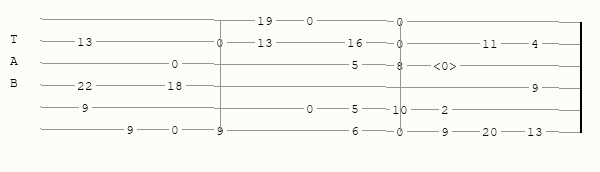0: (171, 58, 183, 70), (171, 124, 183, 136), (216, 36, 228, 48), (306, 14, 318, 26), (306, 102, 318, 114), (396, 124, 408, 136), (396, 36, 408, 48), (396, 14, 408, 26)
10: (392, 102, 412, 114)
11: (482, 36, 502, 48)
13: (77, 36, 97, 48), (257, 36, 277, 48), (527, 124, 547, 136)
16: (347, 36, 367, 48)
18: (167, 80, 187, 92)
19: (257, 14, 277, 26)
2: (441, 102, 453, 114)
20: (482, 124, 502, 136)
22: (77, 80, 97, 92)
4: (531, 36, 543, 48)
5: (351, 102, 363, 114), (351, 58, 363, 70)
6: (351, 124, 363, 136)
8: (396, 58, 408, 70)
9: (81, 102, 93, 114), (126, 124, 138, 136), (216, 124, 228, 136), (441, 124, 453, 136), (531, 80, 543, 92)
harmonic: (433, 58, 461, 71)
